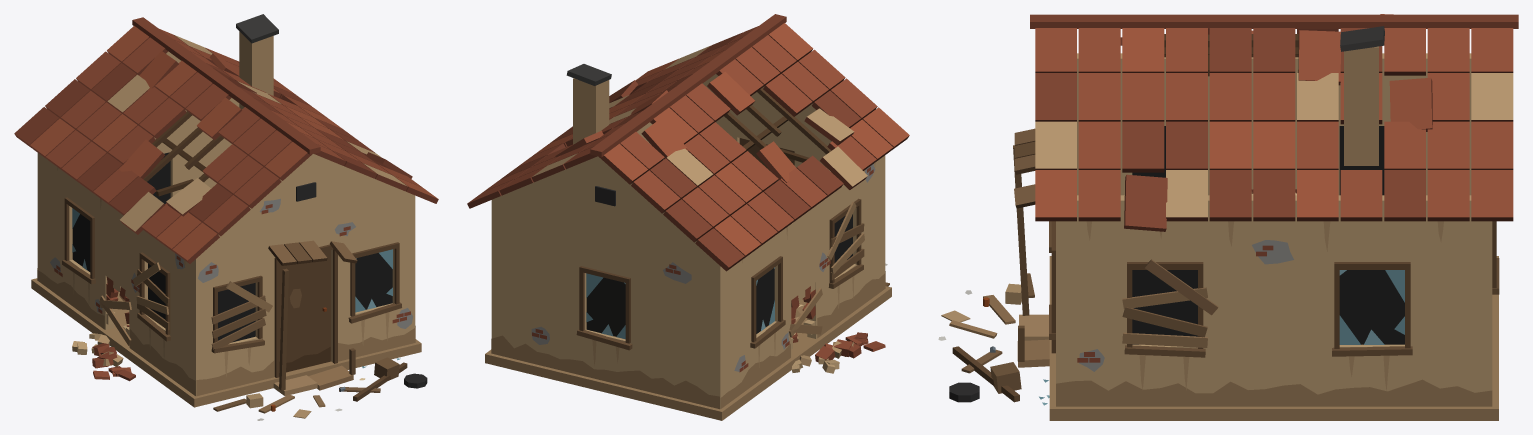
The model's file is StyleTest_All.obj.
The picture shows the model from 3 angles, left to right: view 1: azimuth 30°, elevation 25°; view 2: azimuth 150°, elevation 25°; view 3: azimuth 270°, elevation 25°; orthographic projection. The views are drawn at different scales.
Visible parts, largest first — view 1: Shell, Door_1; view 2: Shell; view 3: Shell.
Boxes of the visible parts, bbox=[...] form: Shell: bbox=[14, 14, 438, 420]; Door_1: bbox=[279, 250, 330, 372]; Shell: bbox=[467, 14, 909, 420]; Shell: bbox=[938, 14, 1518, 420].
Bounding box in the file's own units: 21.34 × 18.21 × 26.6.
